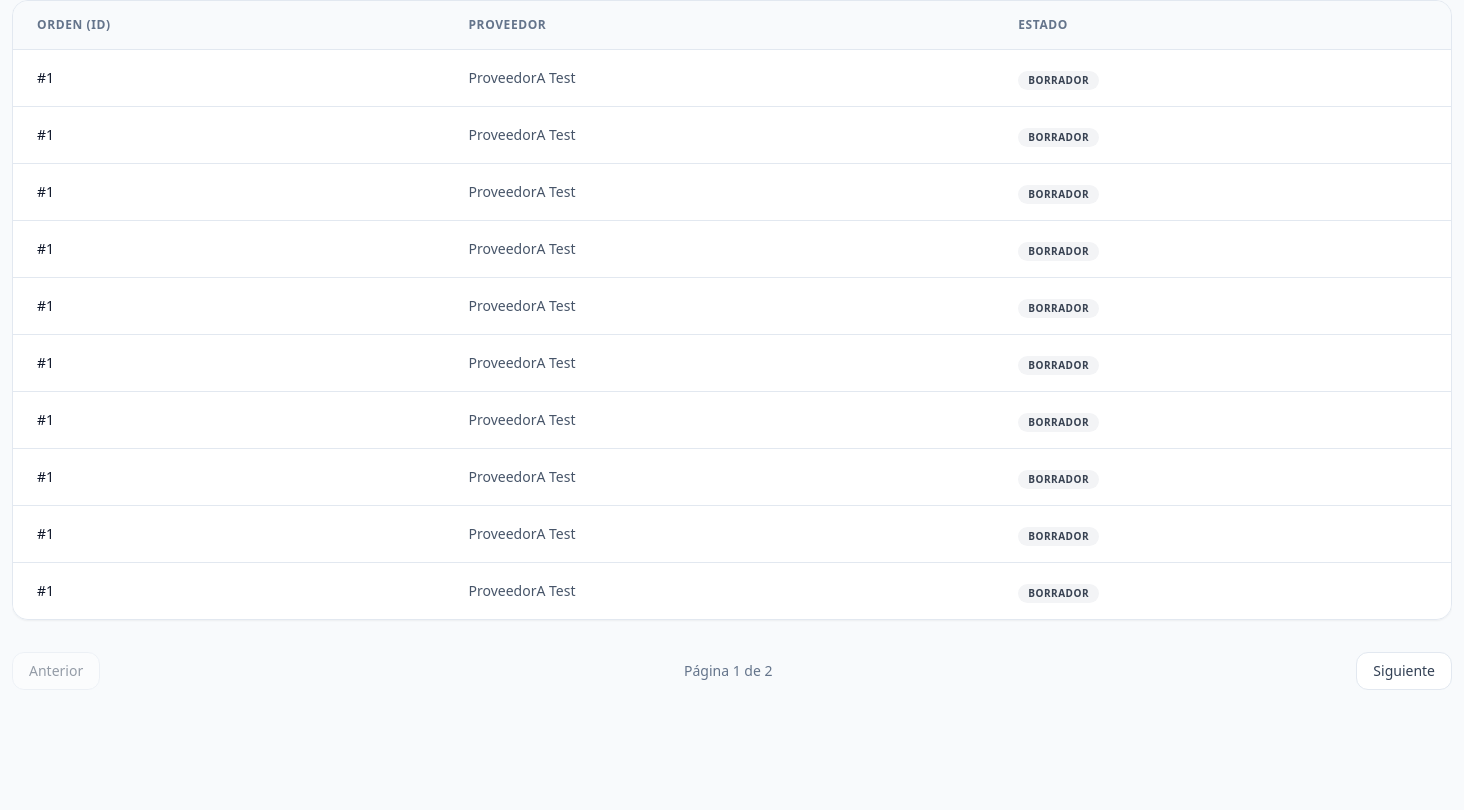
OrderList › debería retroceder a la página anterior
Click the button "Siguiente": (1404, 671) [1356, 652, 1452, 690]
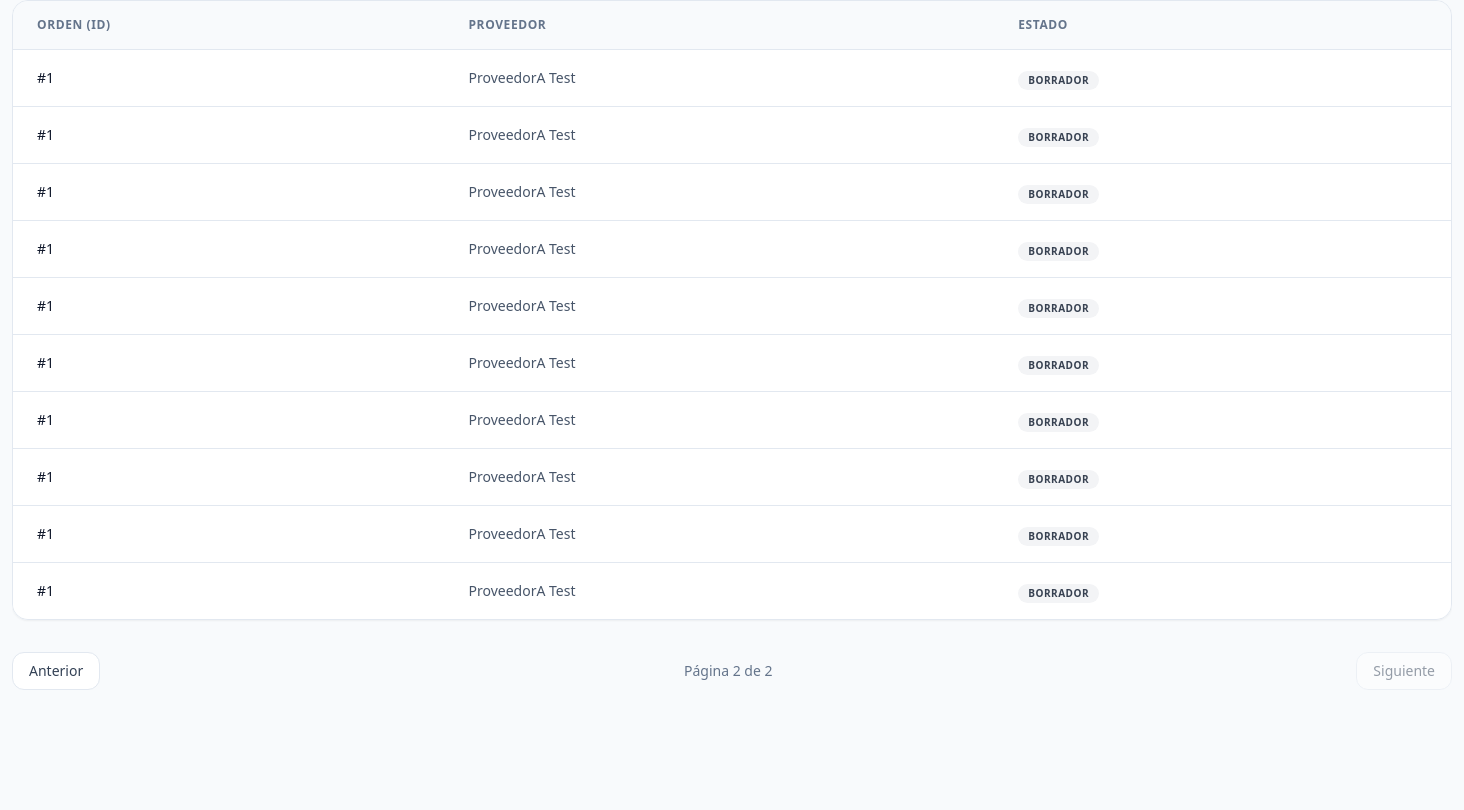
Now the button "Anterior" is enabled
Click the button "Anterior": (56, 671) [12, 652, 100, 690]
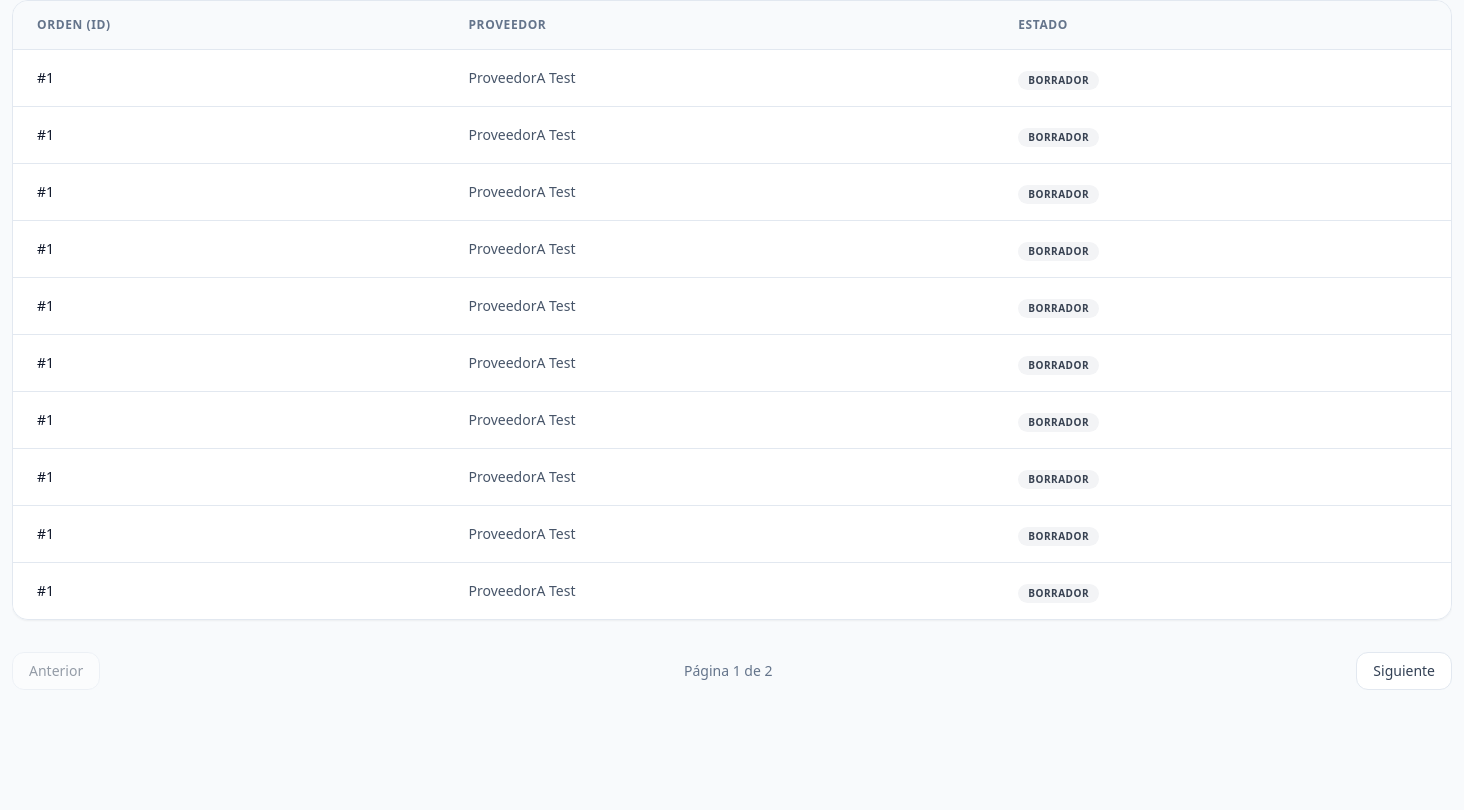
Now the button "Anterior" is disabled, box [12, 652, 100, 690]
